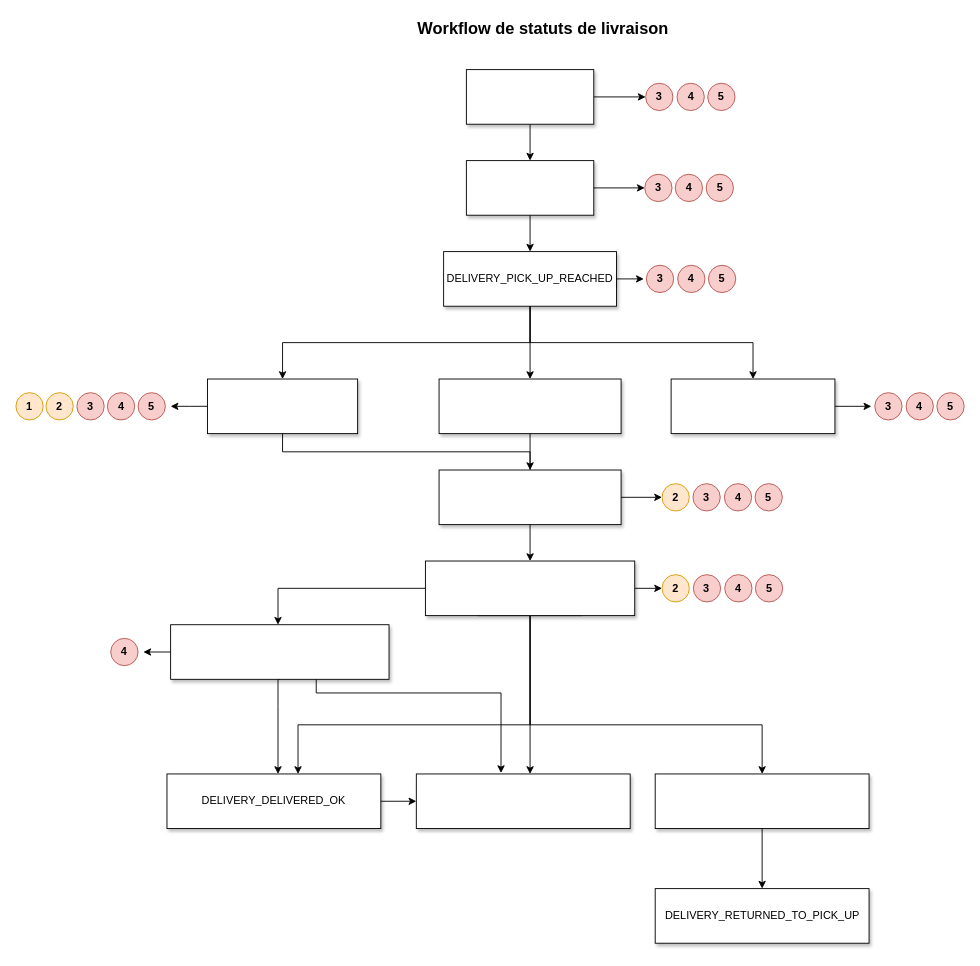
Image size: 980x966. Some labels were removed from this diagram. Here are the shapes that lost their labels. From the top down, the centre of each, then its label:
At (530,98): "DELIVERY_INIT".
At (530,189): "DELIVERY_STARTED".
At (283,407): "DELIVERY_PICK_UP_OK".
At (531,407): "DELIVERY_PICK_UP_PARTIALLY".
At (753,407): "DELIVERY_PICK_UP_FAILED".
At (531,498): "DELIVERY_IN_PROGRESS".
At (530,589): "DELIVERY_AT_DROP_OF_LOCATION".
At (280,653): "DELIVERY_AVAILABLE".
At (524,802): "DELIVERY_DELIVERED_WITH_CLAIM".
At (763,802): "DELIVERY_DELIVERED_PARTIALLY".
